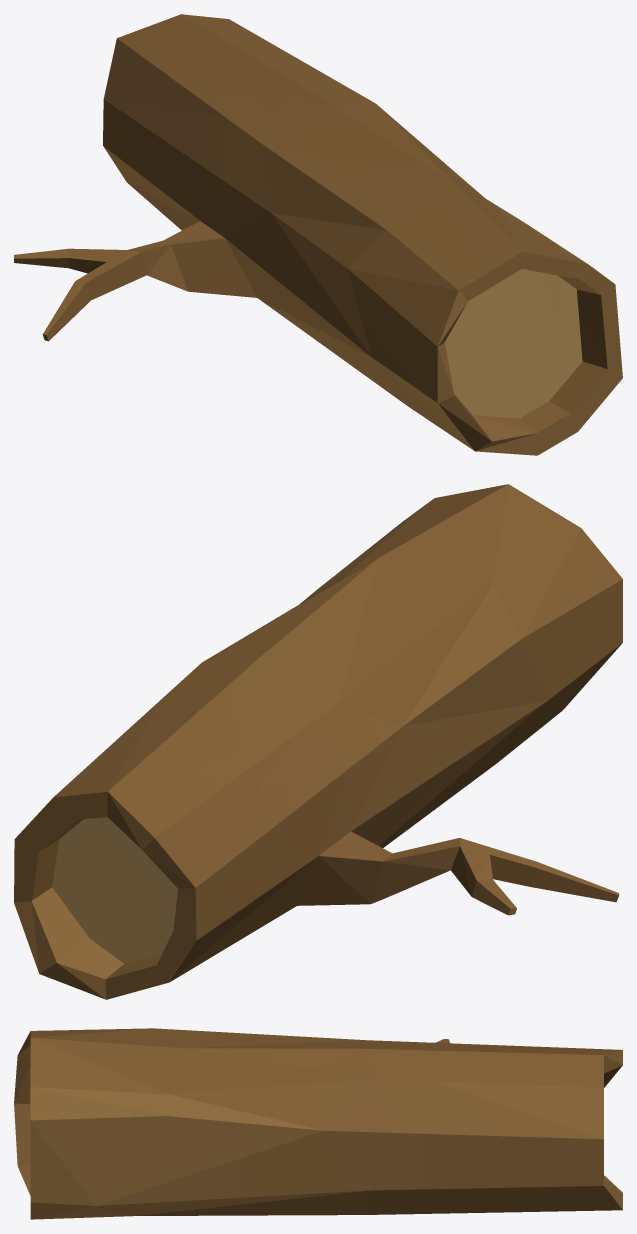
The model's file is log_3.obj.
The picture shows the model from 3 angles, top to bottom: view 1: azimuth 30°, elevation 25°; view 2: azimuth 150°, elevation 25°; view 3: azimuth 270°, elevation 25°; orthographic projection. The views are drawn at different scales.
Parts seen in each view (by area): view 1: log_3_Material; view 2: log_3_Material; view 3: log_3_Material.
Part boxes in pixels (box(x1,y1,x2,y2)): log_3_Material: box(14, 14, 622, 455); log_3_Material: box(14, 484, 622, 999); log_3_Material: box(14, 1028, 622, 1219).
Bounding box in the file's own units: 0.3231 × 0.165 × 0.5309.
